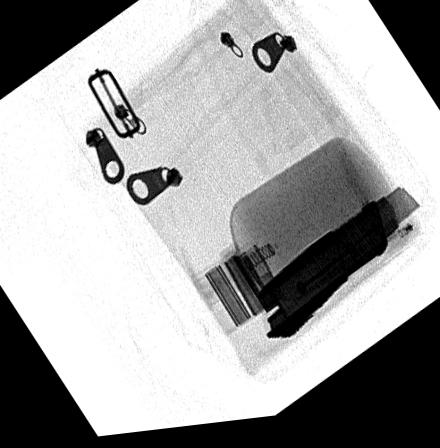Knife: (254, 196, 420, 347)
